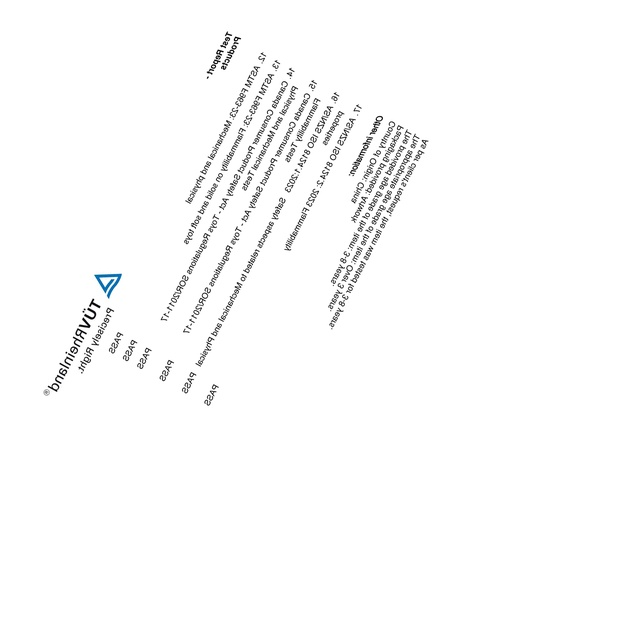tuv_rheinland: (42, 268, 124, 402)
